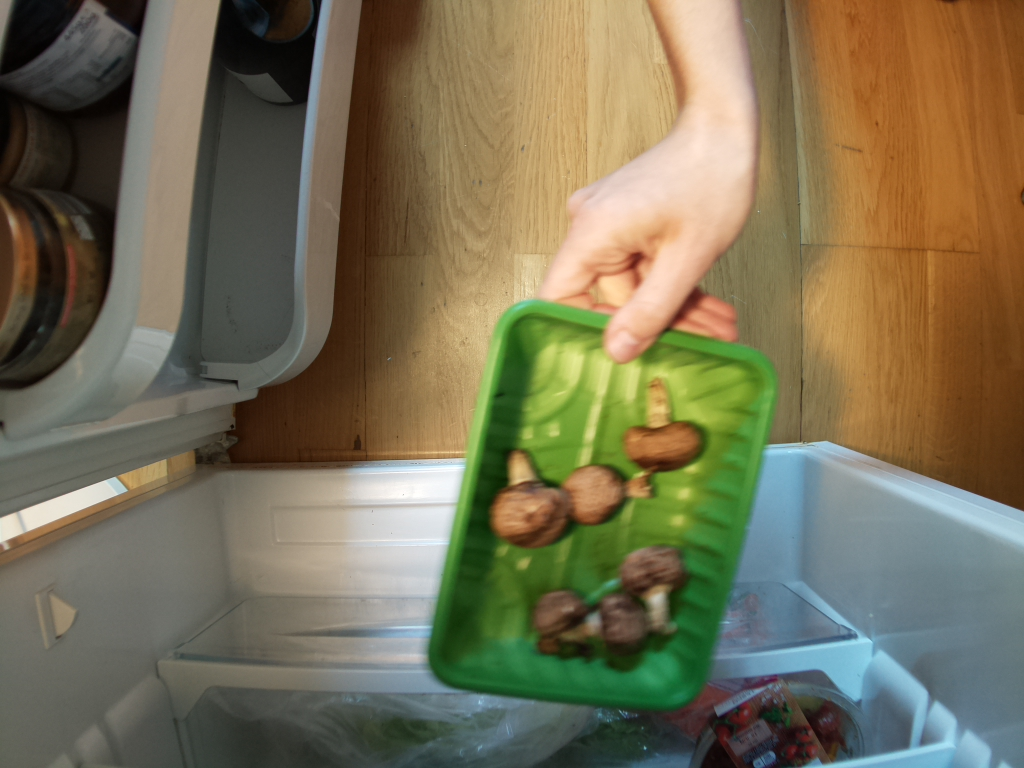mushrooms-bad: (425, 300, 783, 704)
